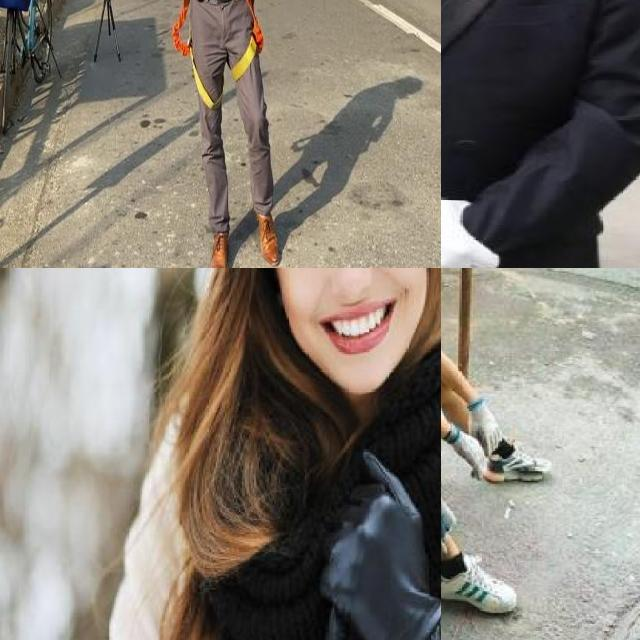Harness: (172, 0, 222, 110), (231, 0, 264, 80)
face_nomask: (270, 268, 423, 372)
hand_glove: (318, 451, 437, 640), (441, 200, 503, 268), (453, 430, 487, 481), (468, 412, 502, 456), (441, 500, 453, 553)
person: (154, 268, 441, 640), (441, 0, 640, 268), (441, 268, 548, 501)
shoes: (441, 547, 520, 621), (477, 444, 551, 485)
